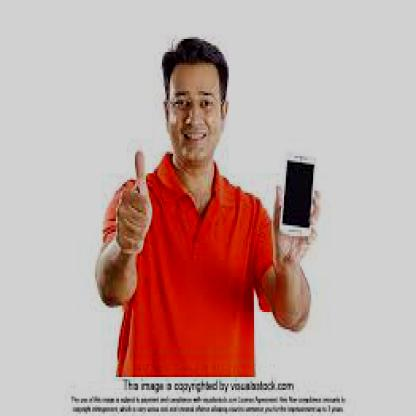Thumbs up: (118, 141, 153, 257)
